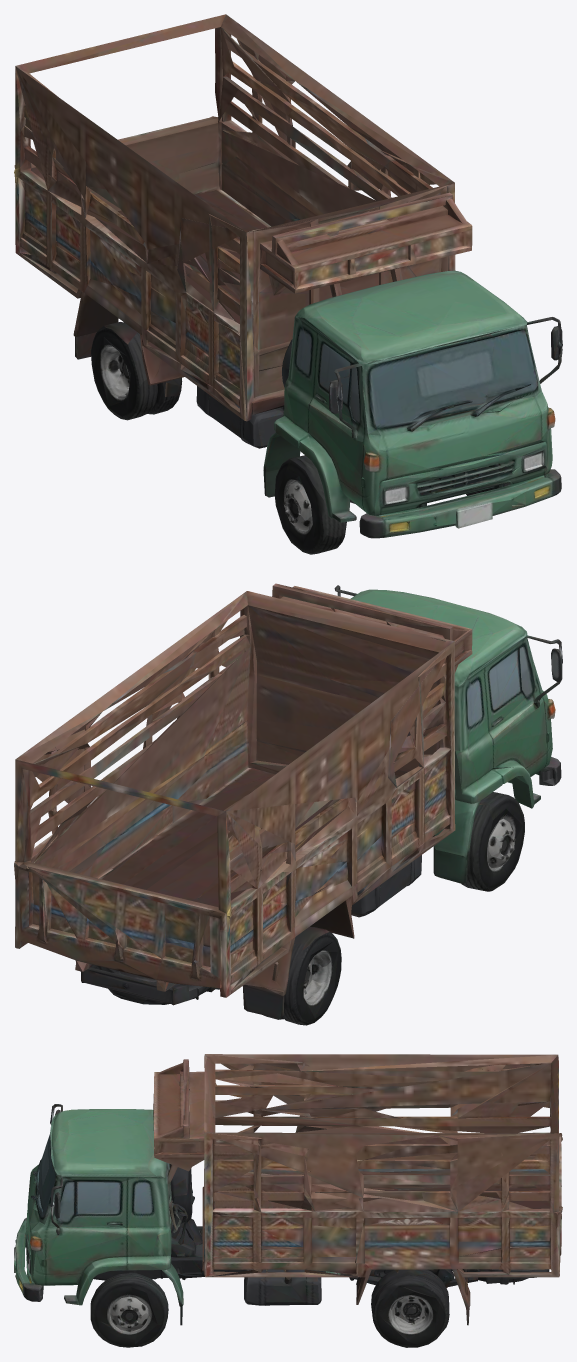
File: daffar-2.glb
3 renders of one model, top to bottom at view 1: azimuth 30°, elevation 25°; view 2: azimuth 150°, elevation 25°; view 3: azimuth 270°, elevation 25°, orthographic. The views are drawn at different scales.
Parts seen in each view (by area): view 1: body, wheel_fr, wheel_rr; view 2: body, wheel_fr, wheel_rr; view 3: body, wheel_fl, wheel_rl.
Part boxes in pixels (x1,y1,x2,y2): body: [14, 14, 562, 554]; wheel_fr: [274, 432, 346, 553]; wheel_rr: [93, 337, 159, 420]; body: [14, 583, 562, 1024]; wheel_fr: [461, 776, 524, 890]; wheel_rr: [277, 944, 341, 1025]; body: [14, 1054, 562, 1344]; wheel_fl: [90, 1272, 168, 1347]; wheel_rl: [379, 1292, 446, 1347].
Bounding box in the file's own units: 0.715 × 0.8339 × 1.9.
Materials: 1 (1 with a texture image).
